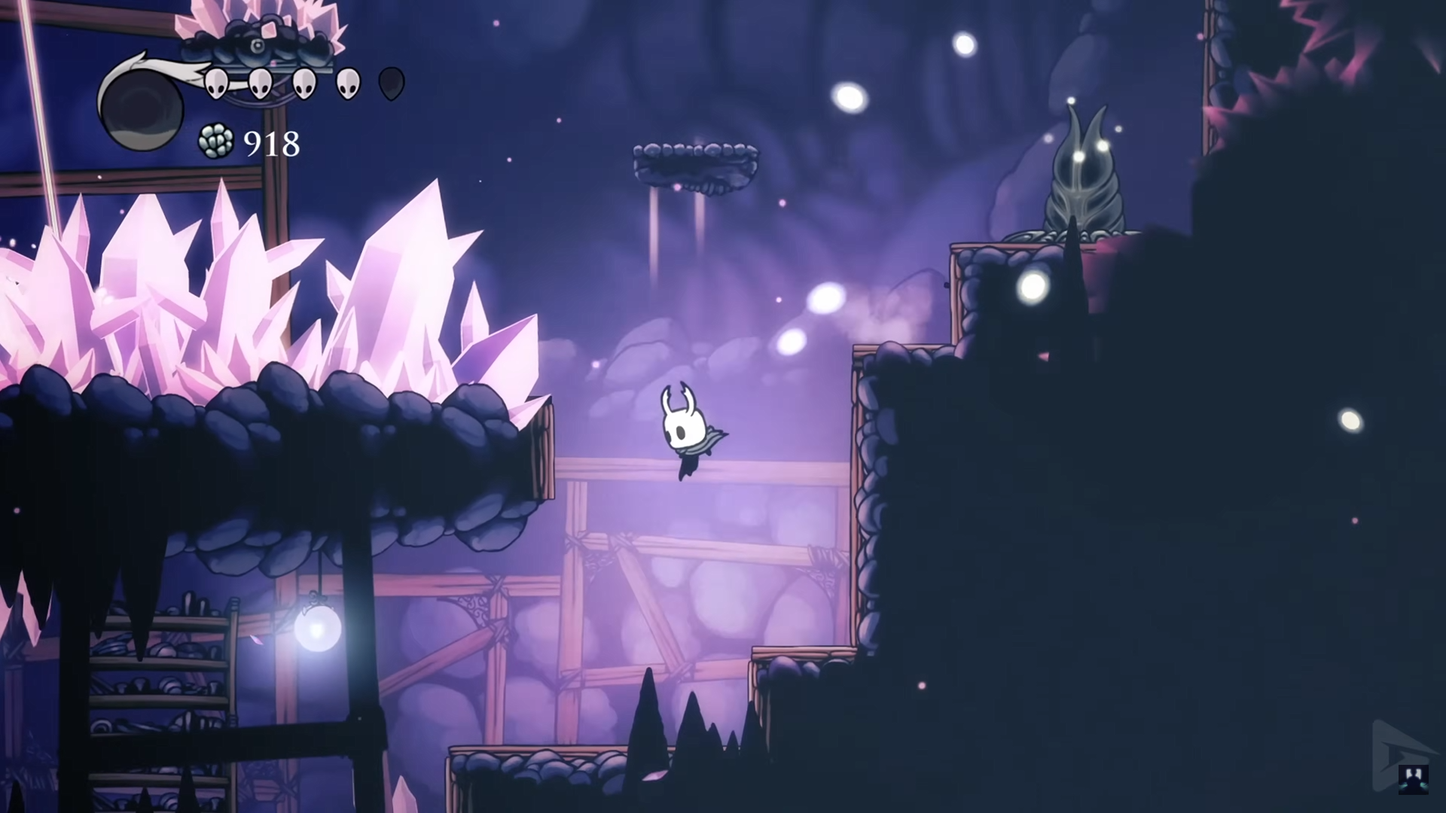HK: (657, 379, 720, 477)
